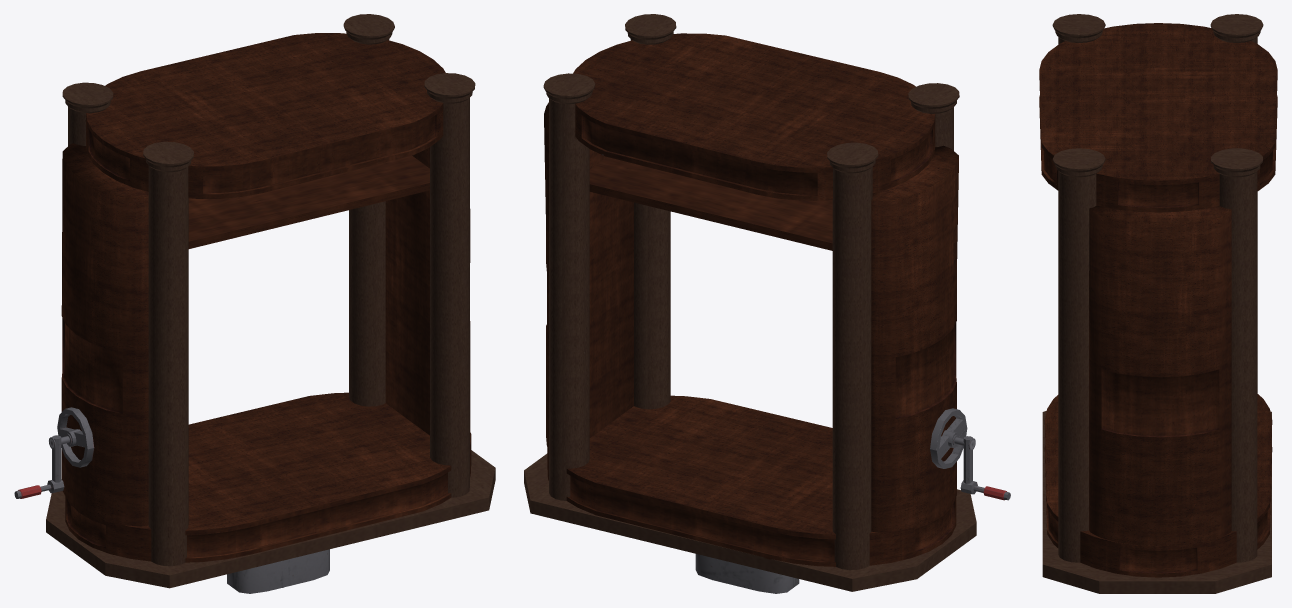
The picture shows the model from 3 angles, left to right: view 1: azimuth 30°, elevation 25°; view 2: azimuth 150°, elevation 25°; view 3: azimuth 270°, elevation 25°; orthographic projection. The views are drawn at different scales.
Parts seen in each view (by area): view 1: Library, WoodenPlank, Wheels, Handel; view 2: Library, WoodenPlank, Handel, Wheels; view 3: Library.
Boxes of the visible parts, left/top/right/bottom form: Library: left=46, top=14, right=495, bottom=588; WoodenPlank: left=188, top=155, right=429, bottom=248; Wheels: left=227, top=549, right=329, bottom=593; Handel: left=14, top=407, right=94, bottom=498; Library: left=524, top=14, right=976, bottom=591; WoodenPlank: left=589, top=157, right=832, bottom=250; Handel: left=930, top=408, right=1010, bottom=500; Wheels: left=695, top=554, right=799, bottom=593; Library: left=1039, top=14, right=1277, bottom=593.
Size of the model in its own units: 194 by 205 by 91.04.
1 material, 1 textured.
